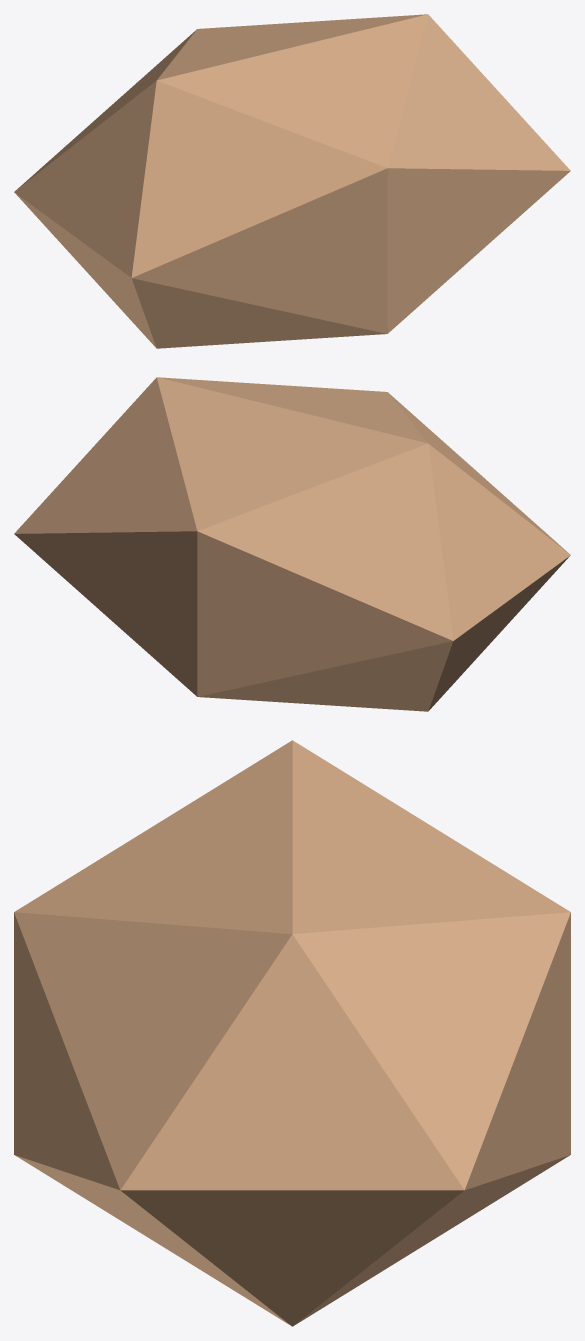
3 renders of one model, top to bottom at view 1: azimuth 30°, elevation 25°; view 2: azimuth 150°, elevation 25°; view 3: azimuth 270°, elevation 25°, orthographic. The views are drawn at different scales.
Bounding box in the file's own units: 2.25 × 1.31 × 1.68.
